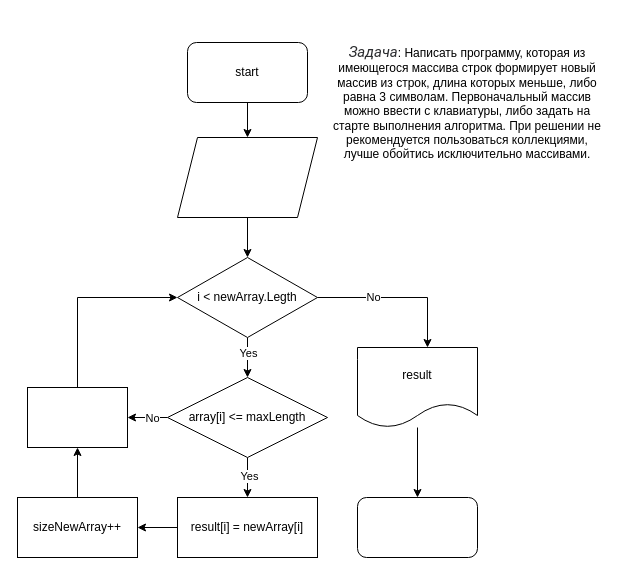
Image size: 625x575. Some labels were removed from this diagram. Each missing label, with the centre of its shape:
"finish" goes at point (417, 527).
"maxLength = 3 string[] newArray string[] result sizeNewArray = 0 outputIndex = 0" goes at point (247, 177).
"outputIndex++" goes at point (77, 417).
